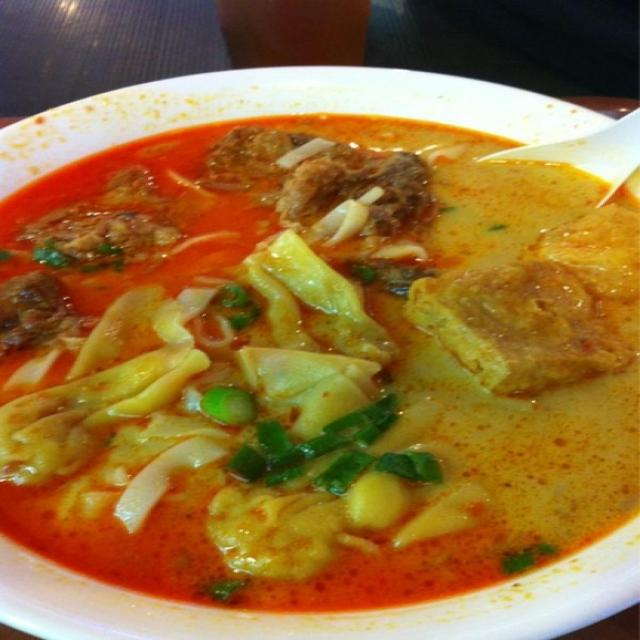面条主食: (2, 80, 636, 616)
